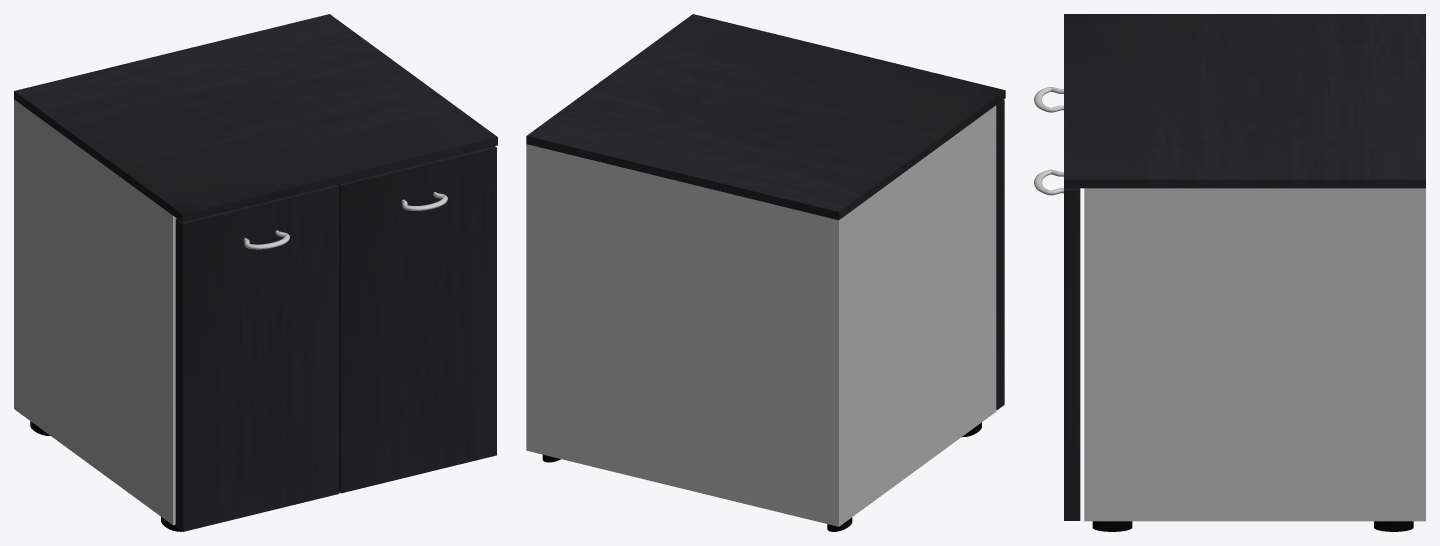
The model's file is sh-lp-mobile9080-w.glb.
The picture shows the model from 3 angles, left to right: view 1: azimuth 30°, elevation 25°; view 2: azimuth 150°, elevation 25°; view 3: azimuth 270°, elevation 25°; orthographic projection. The views are drawn at different scales.
Parts seen in each view (by area): view 1: Box48_2, Line38_4; view 2: Line38_4, Box48_2; view 3: Line38_4, Box48_2, Cylinder35_1.
Part boxes in pixels (box(x1,y1,x2,y2)): Box48_2: box(14, 14, 497, 531); Line38_4: box(14, 99, 447, 525); Line38_4: box(526, 105, 996, 526); Box48_2: box(526, 14, 1005, 409); Line38_4: box(1034, 87, 1425, 521); Box48_2: box(1064, 14, 1425, 520); Cylinder35_1: box(1092, 521, 1413, 531).
Size of the model in its own units: 1 by 1 by 1.
3 materials, 1 textured.
